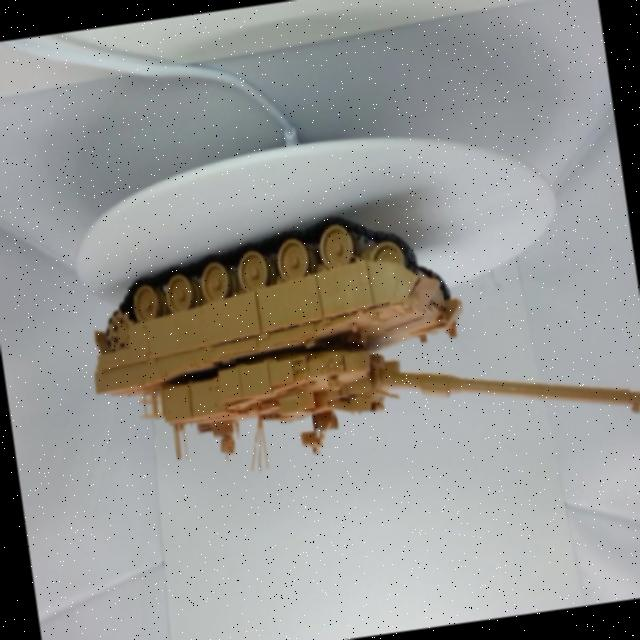korea tank: (44, 166, 640, 506)
